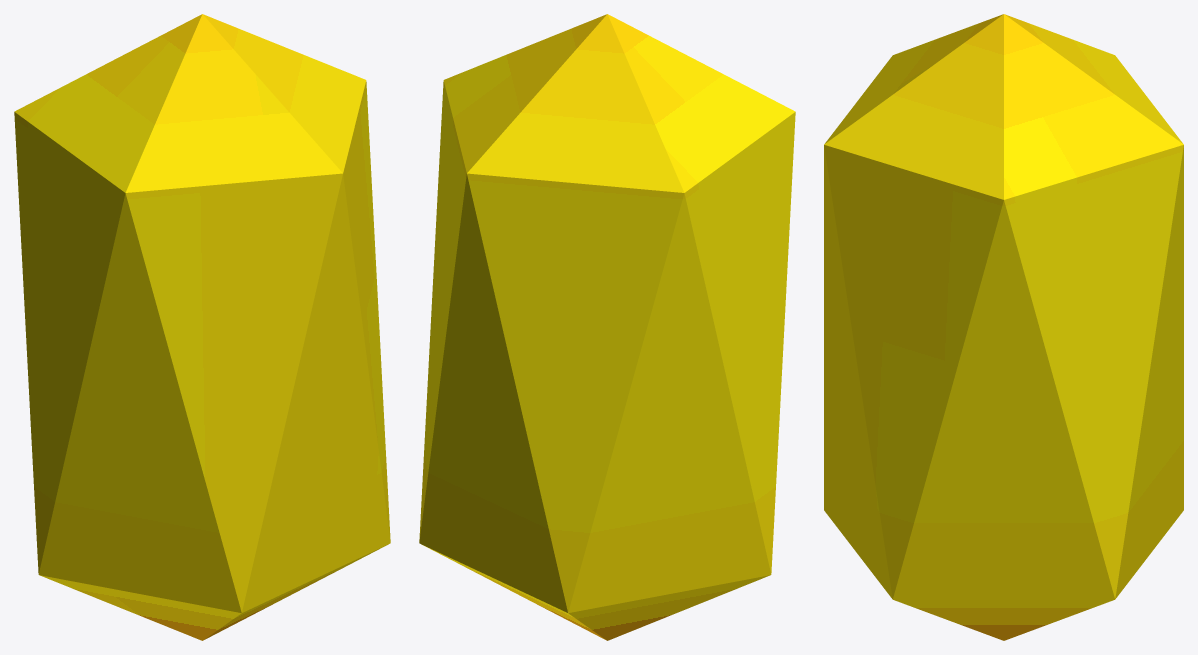
Rendered from Tutorial.028.obj.
The picture shows the model from 3 angles, left to right: view 1: azimuth 30°, elevation 25°; view 2: azimuth 150°, elevation 25°; view 3: azimuth 270°, elevation 25°; orthographic projection.
Visible parts, largest first — view 1: Tutorial.027; view 2: Tutorial.027; view 3: Tutorial.027.
Boxes of the visible parts, left/top/right/bottom form: Tutorial.027: left=14, top=14, right=390, bottom=640; Tutorial.027: left=419, top=14, right=795, bottom=640; Tutorial.027: left=824, top=14, right=1183, bottom=640.
Size of the model in its own units: 1.79 by 3.27 by 1.7.
Materials: 1 (1 with a texture image).
